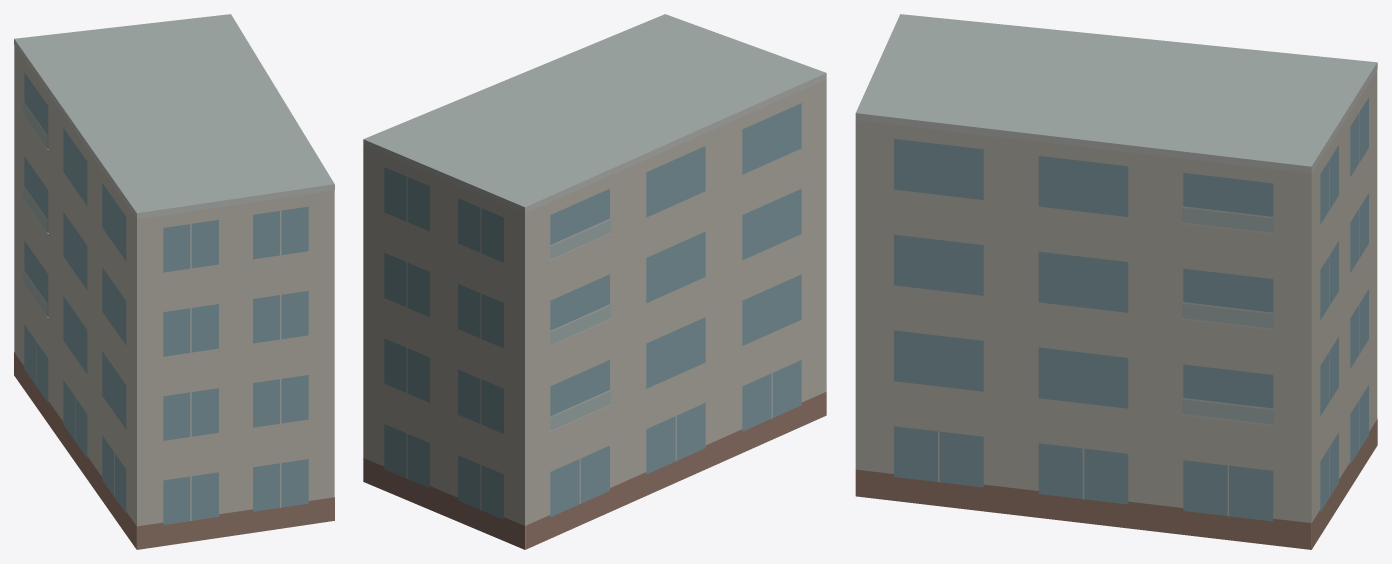
Rendered from survey-upis-33028890.glb.
The picture shows the model from 3 angles, left to right: view 1: azimuth 30°, elevation 25°; view 2: azimuth 150°, elevation 25°; view 3: azimuth 270°, elevation 25°; orthographic projection. The views are drawn at different scales.
Parts seen in each view (by area): view 1: survey-upis-33028890.tmp; view 2: survey-upis-33028890.tmp; view 3: survey-upis-33028890.tmp.
Boxes of the visible parts, box(x1,y1,x2,y2) form: survey-upis-33028890.tmp: box(14, 14, 334, 549); survey-upis-33028890.tmp: box(363, 14, 826, 549); survey-upis-33028890.tmp: box(855, 14, 1377, 549).
Size of the model in its own units: 11.33 by 13.25 by 16.36.
